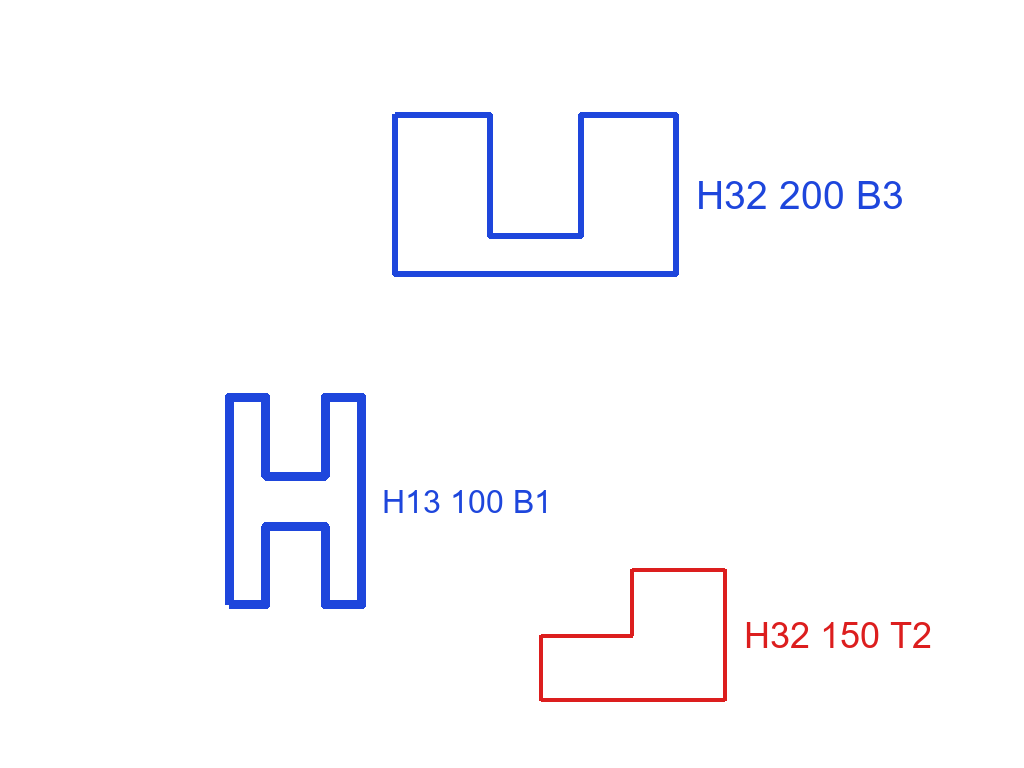shape: (391, 110, 681, 280), (223, 391, 368, 611), (537, 565, 728, 705)
text: (694, 179, 906, 211), (742, 620, 934, 650), (380, 488, 554, 515)
